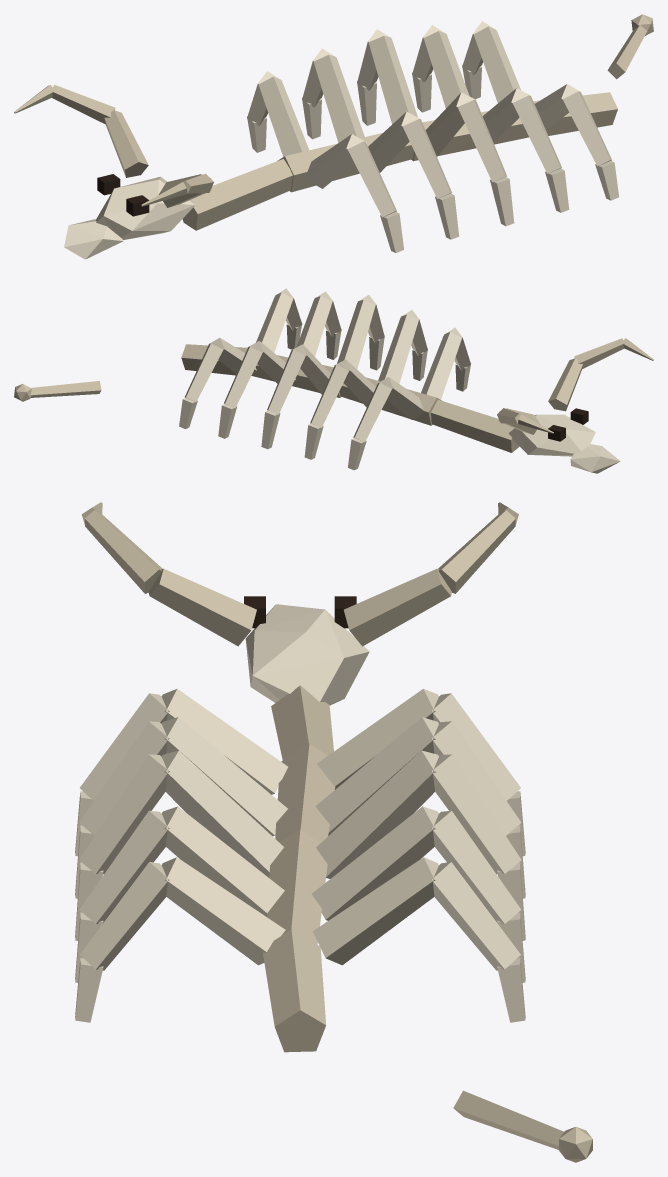
Rendered from Bones.fbx.
3 views of the same model, one above another, from view 1: azimuth 30°, elevation 25°; view 2: azimuth 150°, elevation 25°; view 3: azimuth 270°, elevation 25° (orthographic). The views are drawn at different scales.
Visible parts, largest first — view 1: Bones, Bones2, Sockets; view 2: Bones, Bones2, Sockets; view 3: Bones, Bones2, Sockets.
Boxes of the visible parts, x1,y1,x2,y2 form: Bones: [64, 21, 618, 259]; Bones2: [14, 14, 653, 230]; Sockets: [97, 174, 149, 216]; Bones: [179, 288, 620, 473]; Bones2: [14, 338, 653, 452]; Sockets: [548, 408, 588, 441]; Bones: [75, 604, 525, 1022]; Bones2: [82, 502, 592, 1162]; Sockets: [244, 596, 356, 628].
Bounding box in the file's own units: 6.8 × 1.14 × 2.86.
